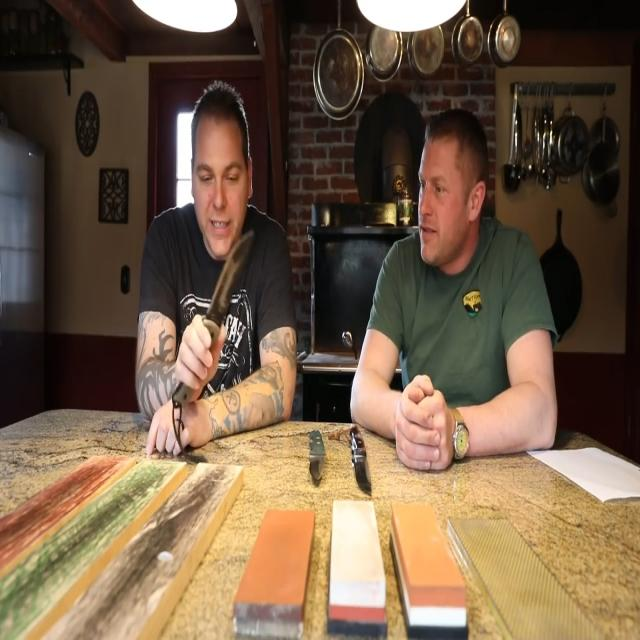knife: (202, 223, 260, 341), (348, 421, 380, 500), (308, 419, 326, 489)
